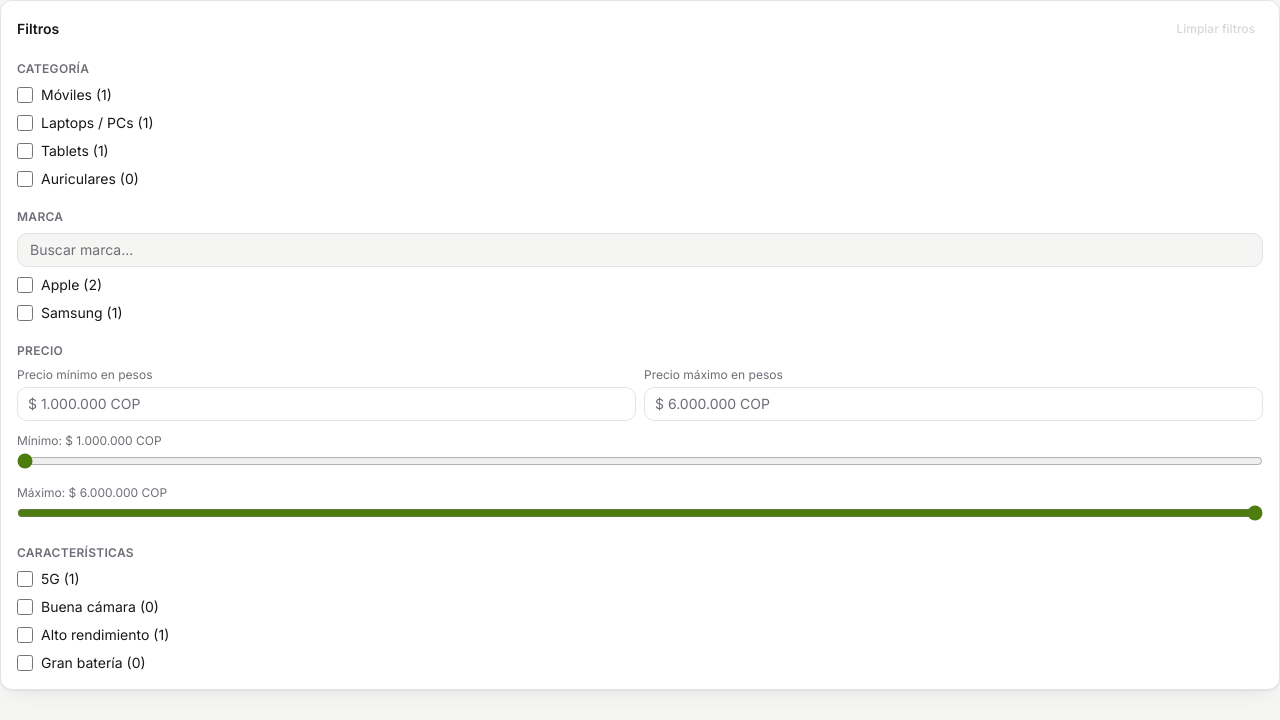
Test case: FilterSidebar — buscador de marcas › filtra las marcas sin distinguir mayúsculas ni acentos
Type "SAMSÚNG" into the search field named "Buscar marcas" at (640, 250), box [17,233,1263,267]
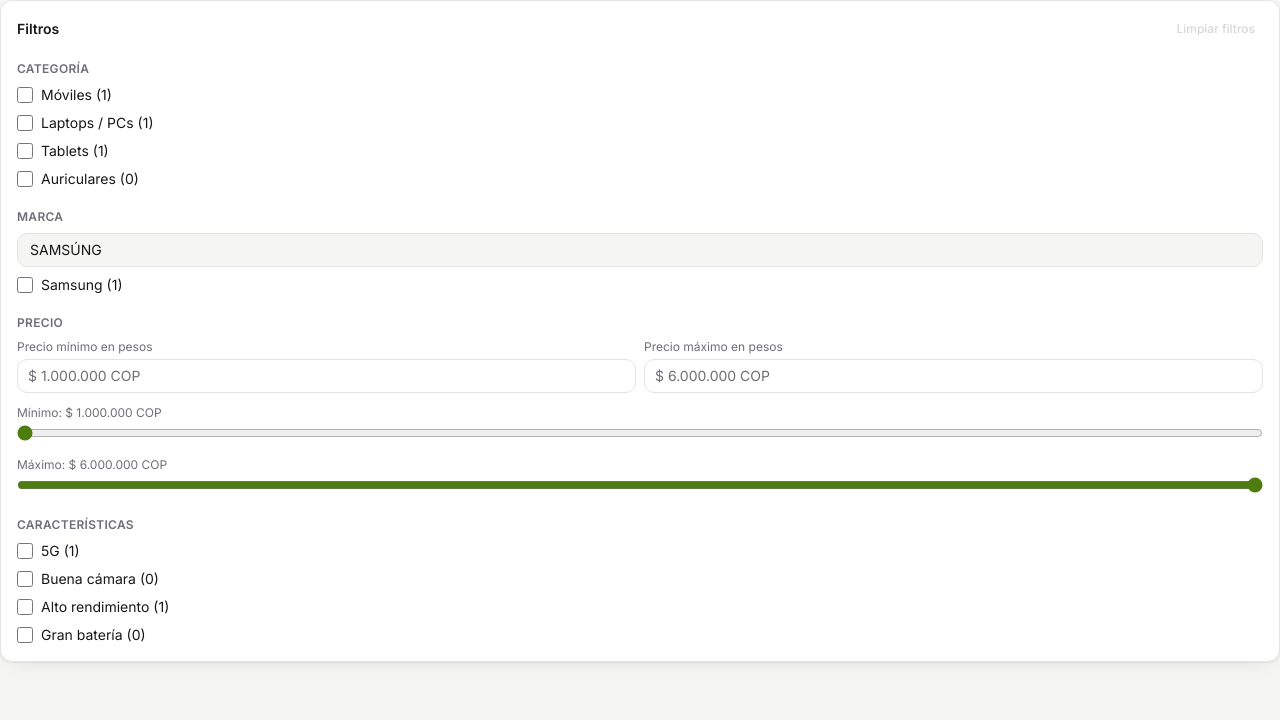
Expected: the checkbox labelled "Samsung (1)" is shown, [17,277,33,293]
Expected: the text "Apple" is gone
